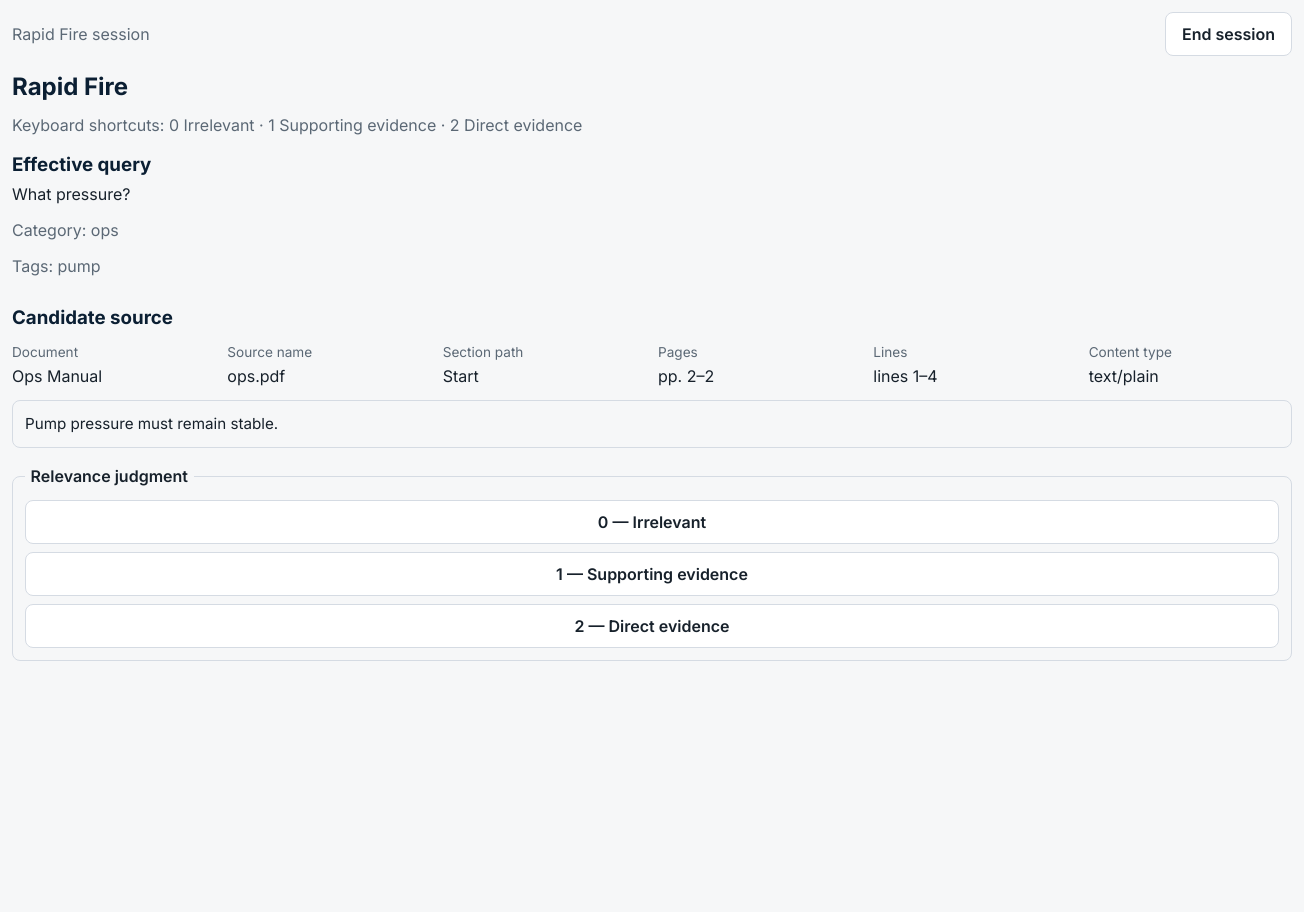
16G-I2-REWORK session latch, retry identity, blocks, QC reset › keeps the committed task latched after pending-list refresh until Next
This screenshot has width=1304, height=912.
expect the text "What pressure?" is shown: met, box [12,184,130,204]
Click the button "1 — Supporting evidence": click(652, 574) [25,552,1279,596]
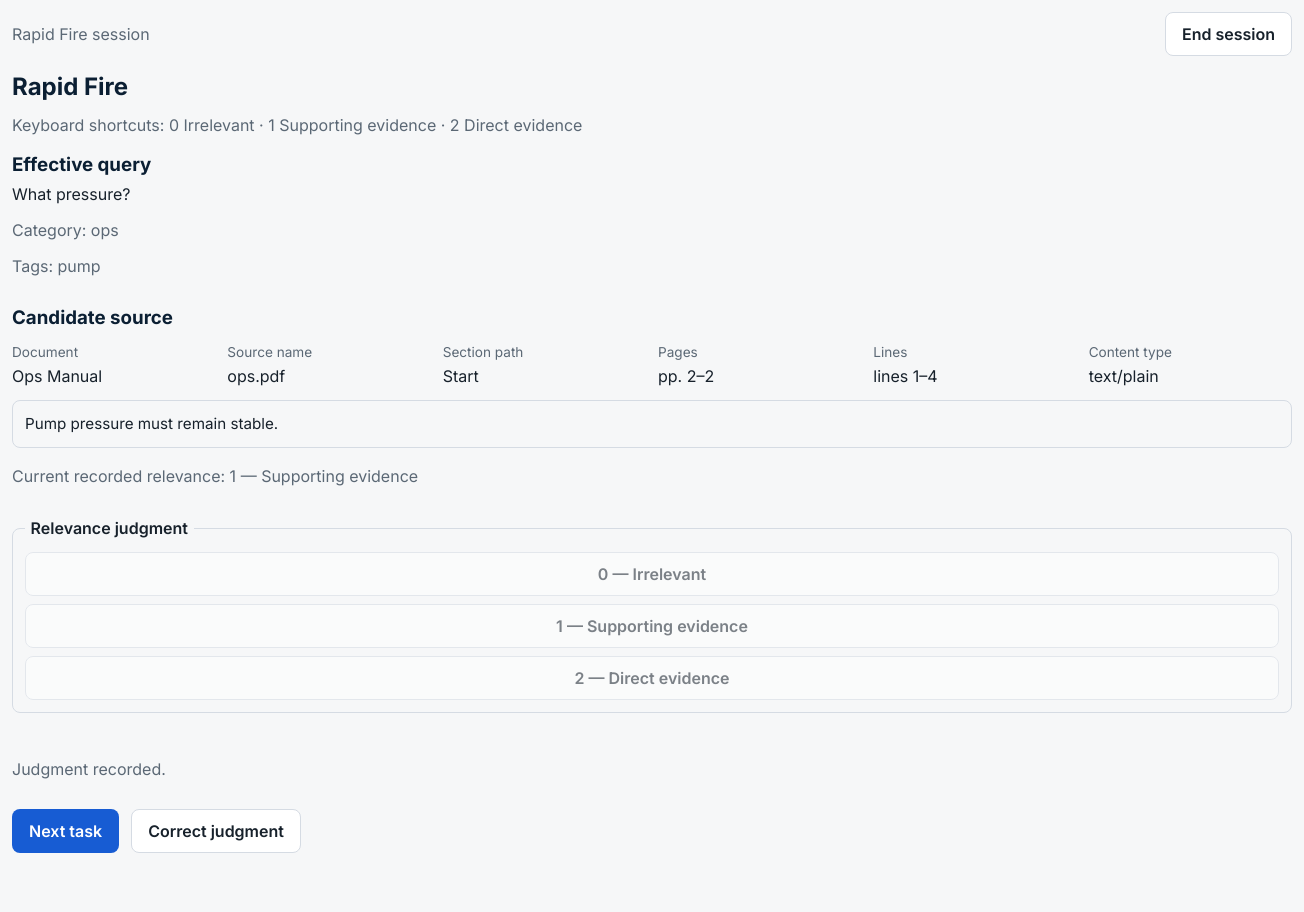
expect the text "What pressure?" is shown: met, box [12,184,130,204]
expect the button "Correct judgment" is shown: met
expect the text "Current recorded relevance: 1 — Supporting evidence" is shown: met, box [12,466,418,486]
Click the button "Correct judgment": click(216, 831) [131,809,301,853]
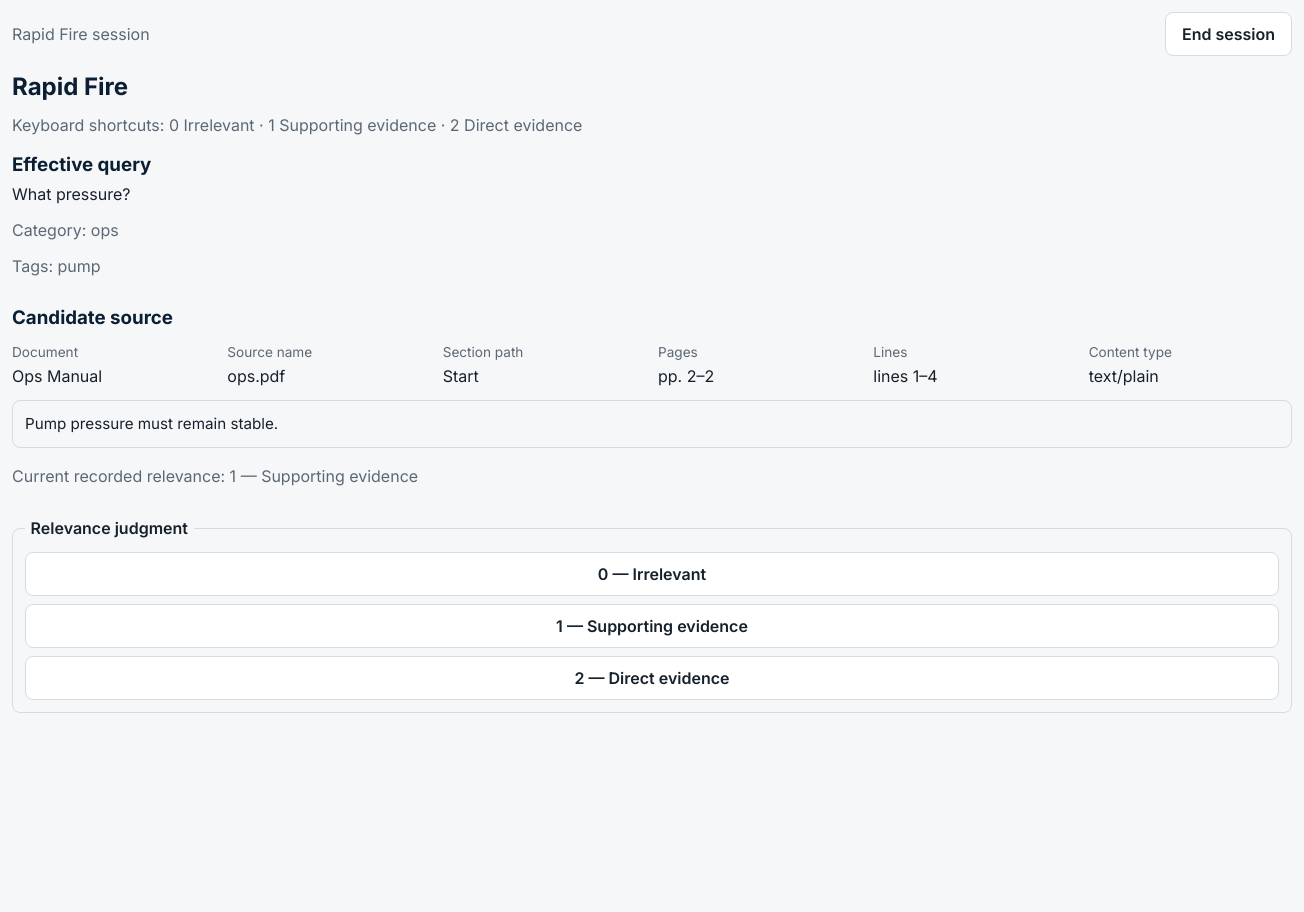
Click the button "2 — Direct evidence": click(652, 678) [25,656,1279,700]
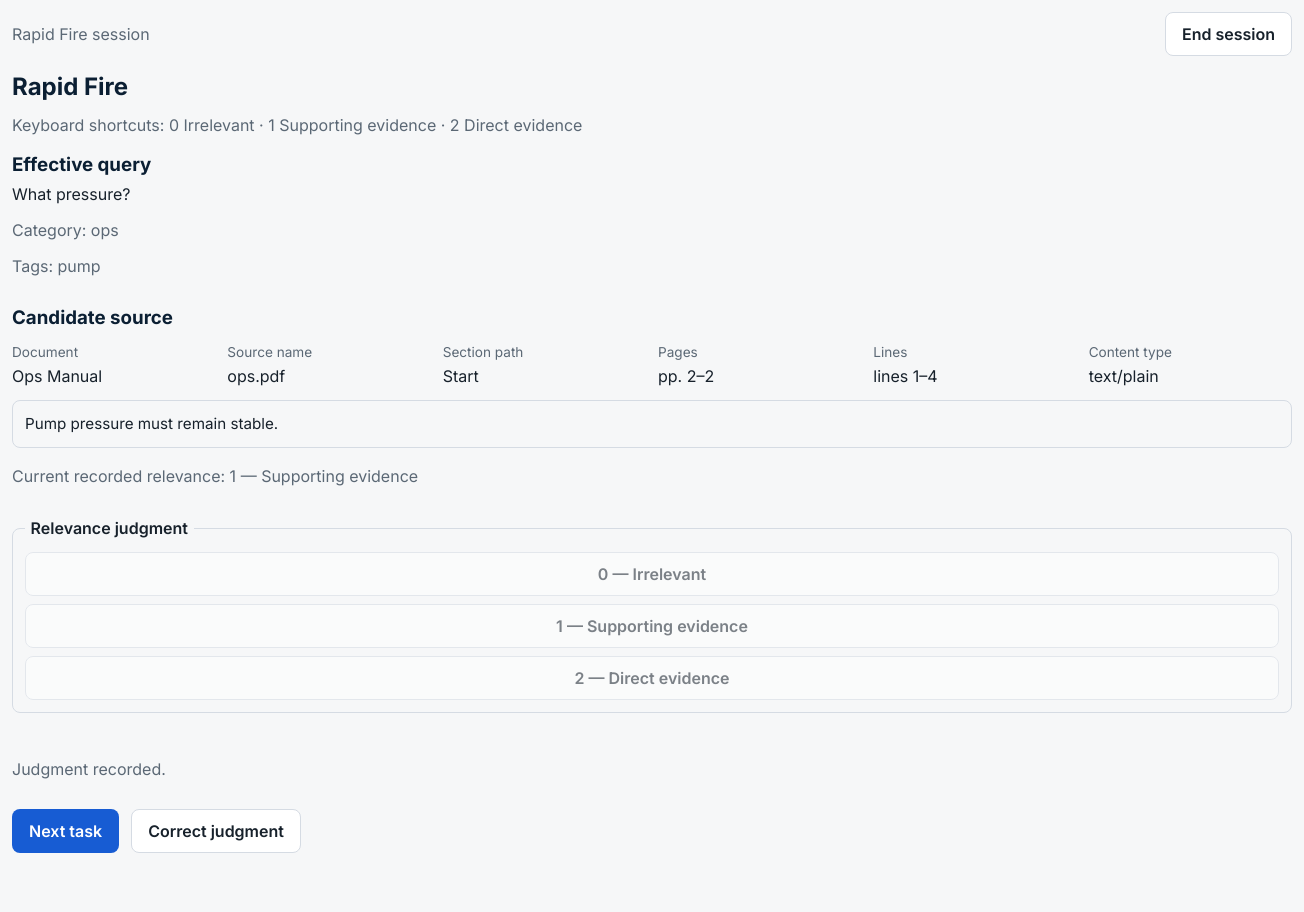
Click the button "Next task": click(66, 831) [12,809,119,853]
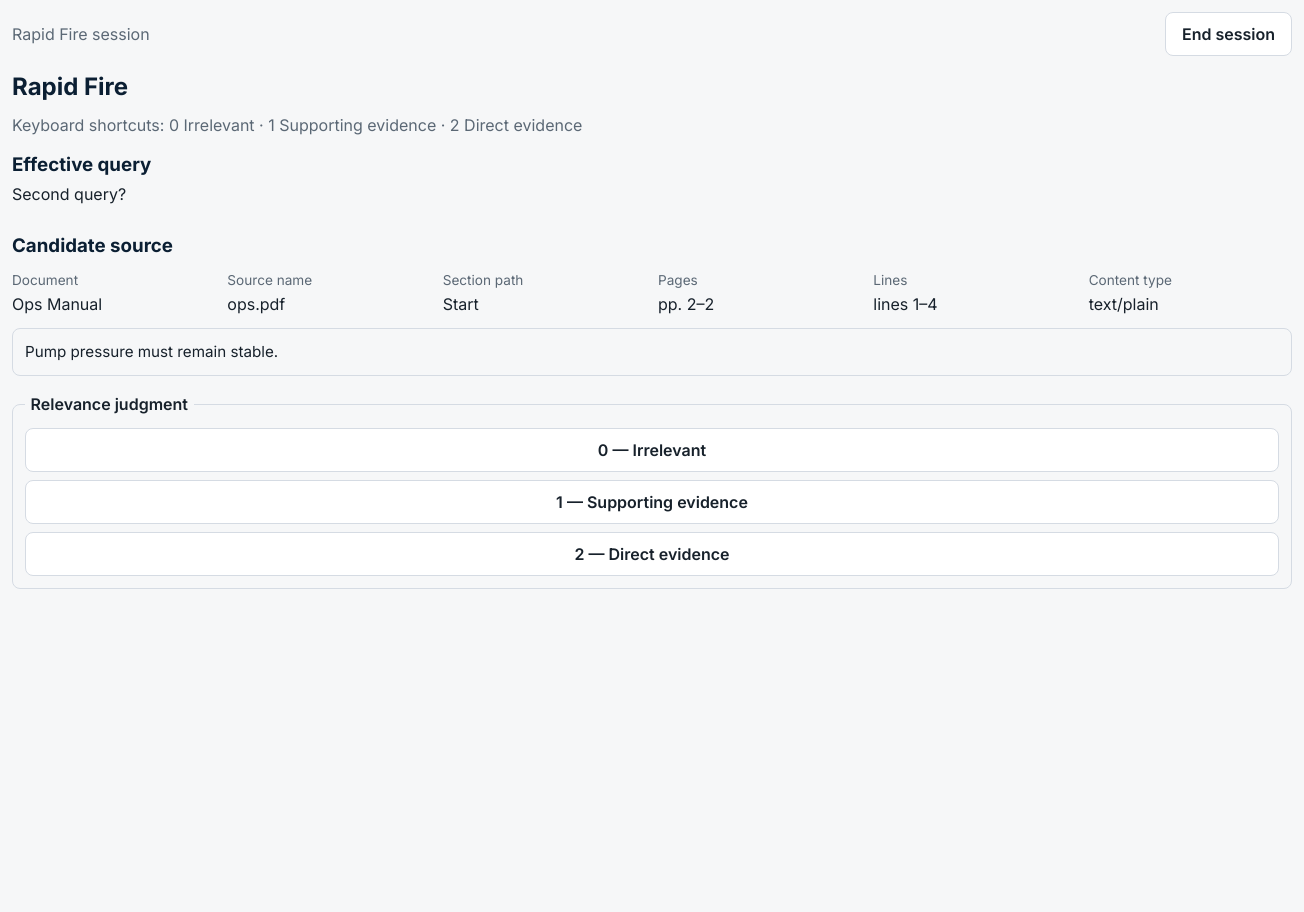
expect the text "Second query?" is shown: met, box [12,184,126,204]
